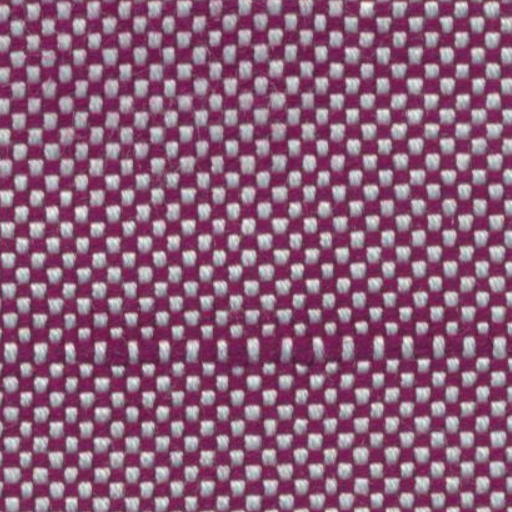DaiSha: (57, 327, 476, 375)
